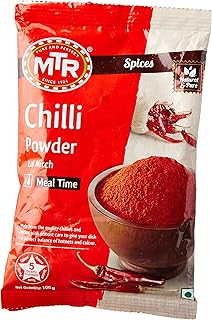Chilli Powder: (15, 3, 199, 320)
